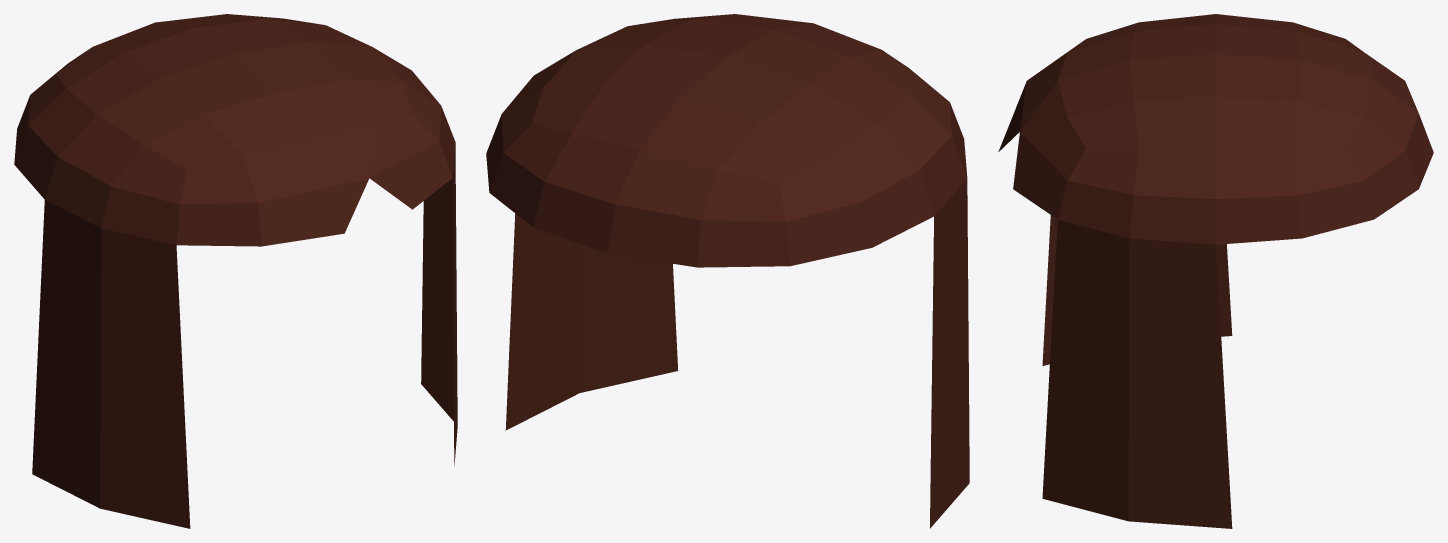
File: hair.glb
The picture shows the model from 3 angles, left to right: view 1: azimuth 30°, elevation 25°; view 2: azimuth 150°, elevation 25°; view 3: azimuth 270°, elevation 25°; orthographic projection. The views are drawn at different scales.
Parts seen in each view (by area): view 1: hair; view 2: hair; view 3: hair.
Part boxes in pixels (x1,y1,x2,y2): hair: (14,14,457,528); hair: (486,14,969,528); hair: (998,14,1433,528).
Size of the model in its own units: 1.72 by 1.62 by 1.68.
